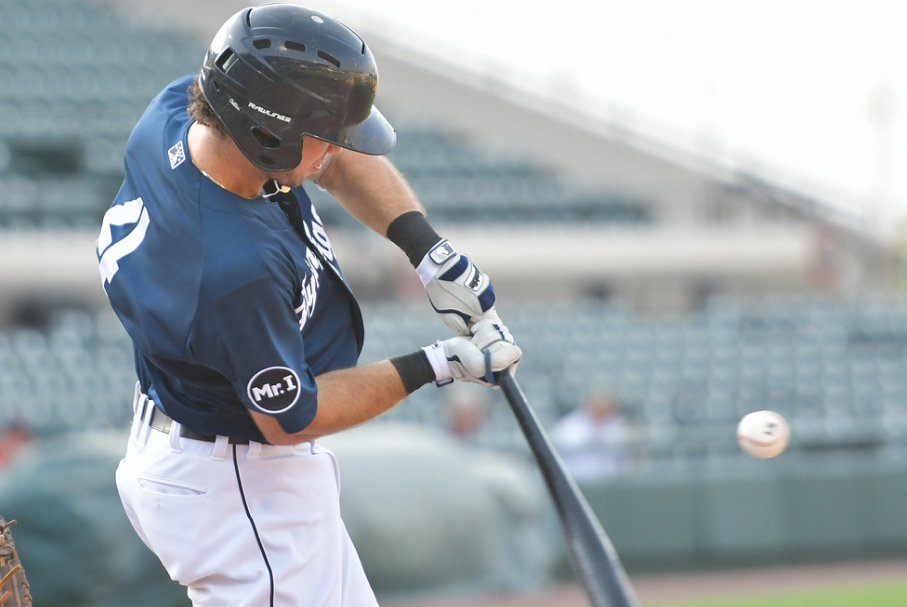ball: (734, 408, 791, 458)
